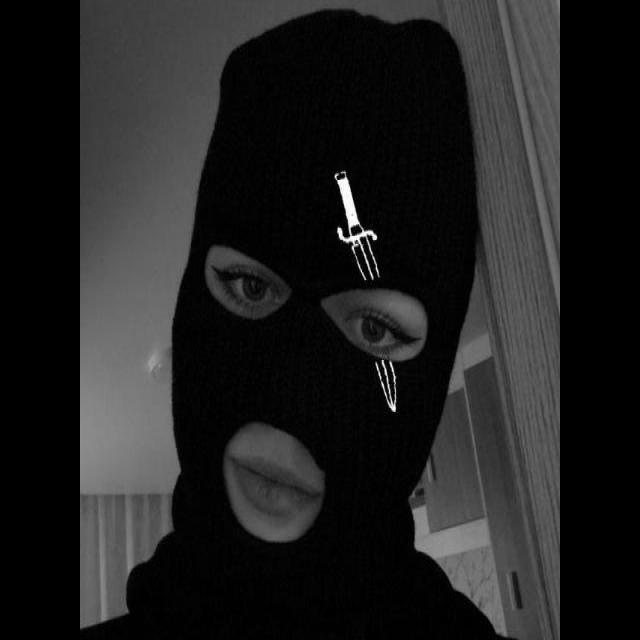6_pasamontana: (123, 9, 480, 640)
